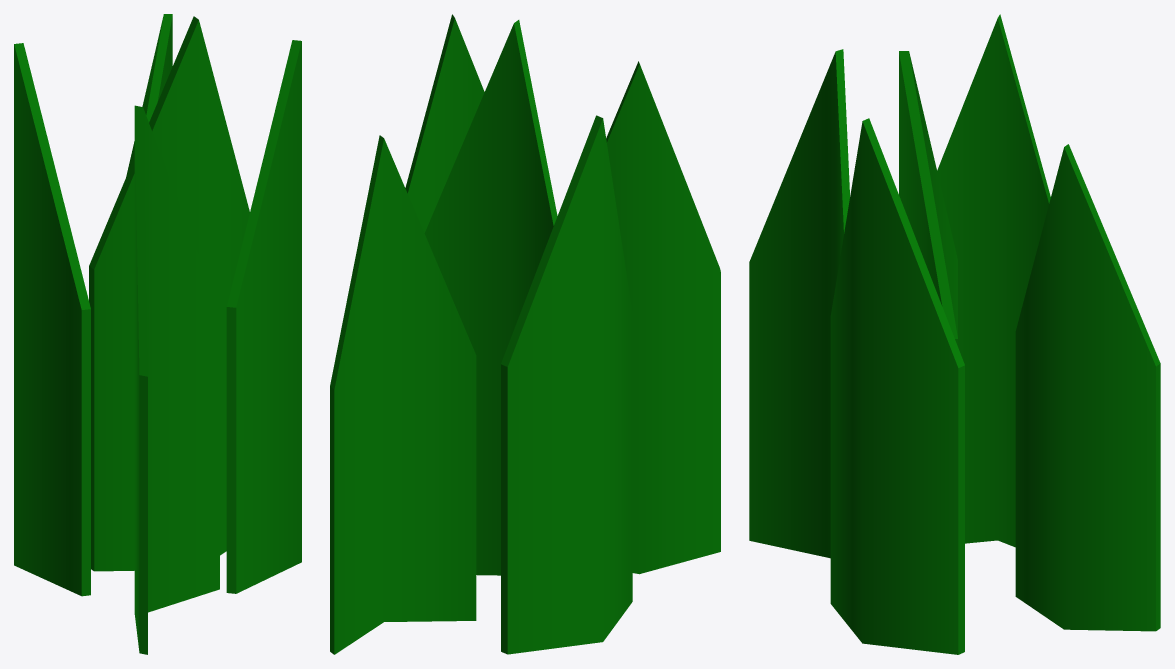
The model's file is Grass.fbx.
3 views of the same model, side by side, from view 1: azimuth 30°, elevation 25°; view 2: azimuth 150°, elevation 25°; view 3: azimuth 270°, elevation 25° (orthographic).
Visible parts, largest first — view 1: Grass; view 2: Grass; view 3: Grass.
Part boxes in pixels (bbox=[...]): Grass: bbox=[14, 14, 301, 654]; Grass: bbox=[330, 14, 720, 654]; Grass: bbox=[749, 14, 1160, 654].
Bounding box in the file's own units: 1.51 × 3.27 × 2.21.
